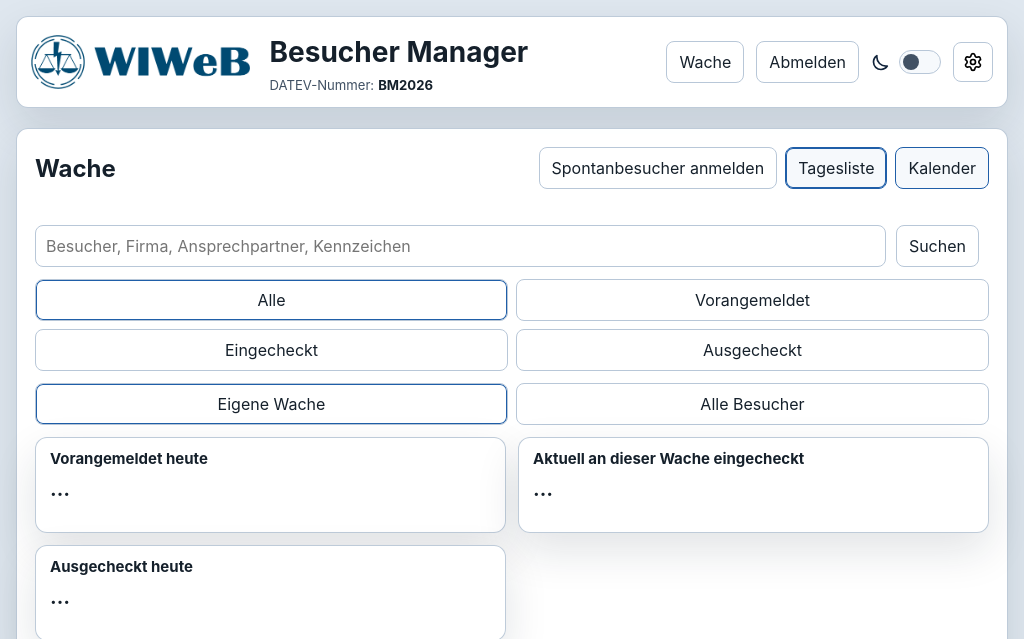
Test: walk-in form › shows invalid optional e-mail locally before sending the request
Click the button "Spontanbesucher anmelden": coordinates (658, 168) x1=538 y1=147 x2=777 y2=189
(page scrolled)
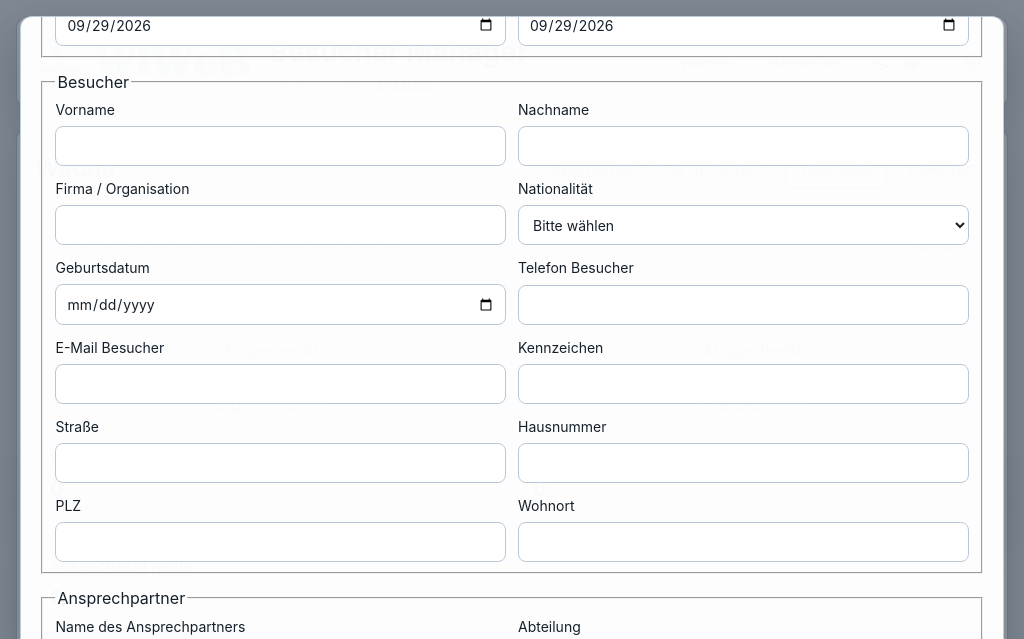
In the field labelled "E-Mail Besucher": coordinates (281, 384) x1=56 y1=364 x2=506 y2=404, type "ungueltig"
(page scrolled)
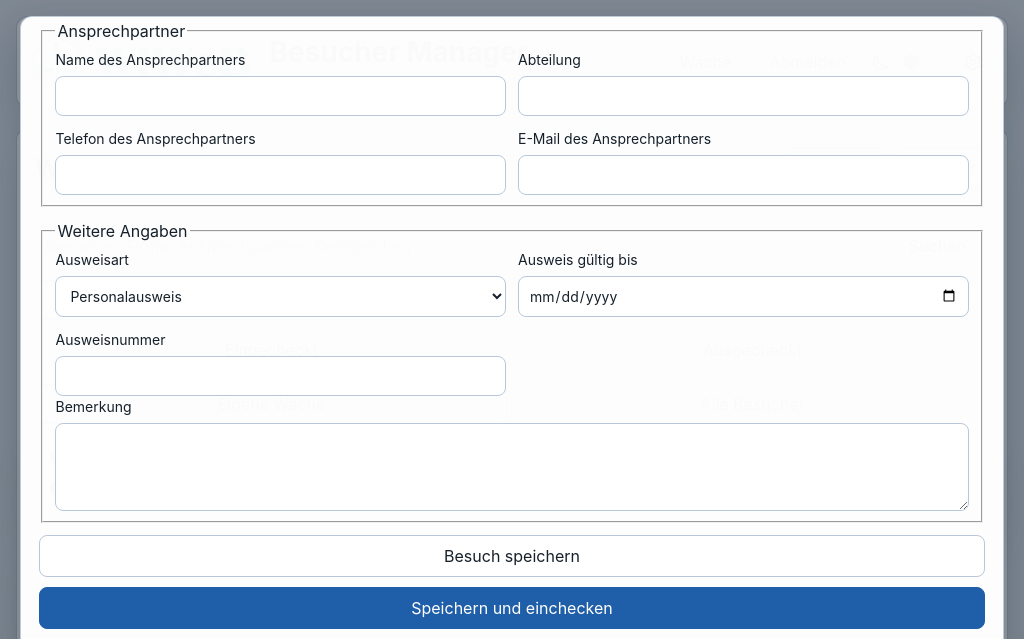
Click the button "Besuch speichern": coordinates (512, 556) x1=40 y1=534 x2=984 y2=576
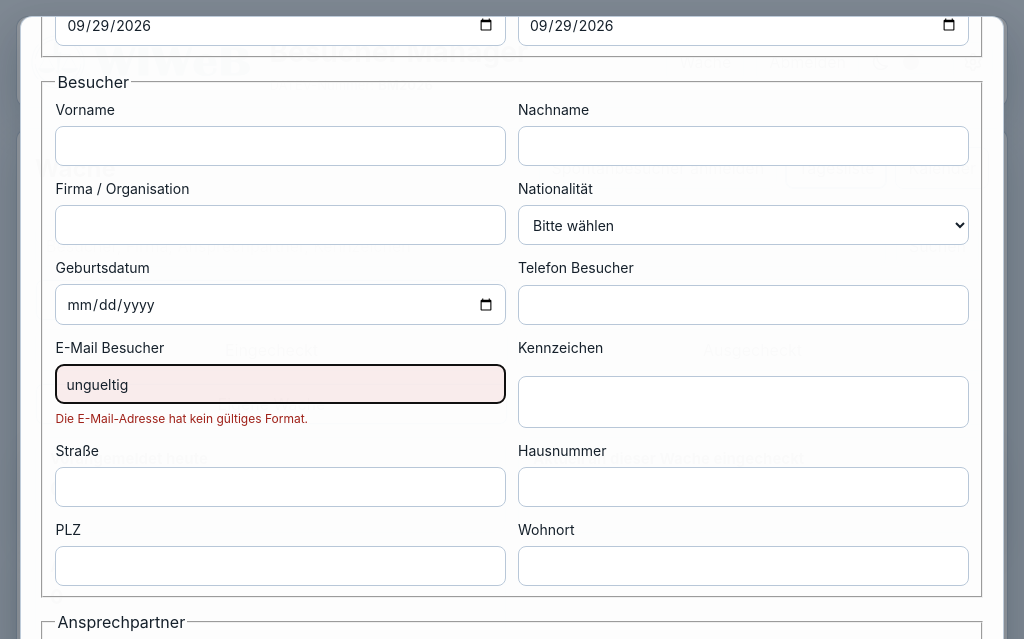
Check: the text "Die E-Mail-Adresse hat kein gültiges Format." is shown, box x1=56 y1=411 x2=308 y2=426
